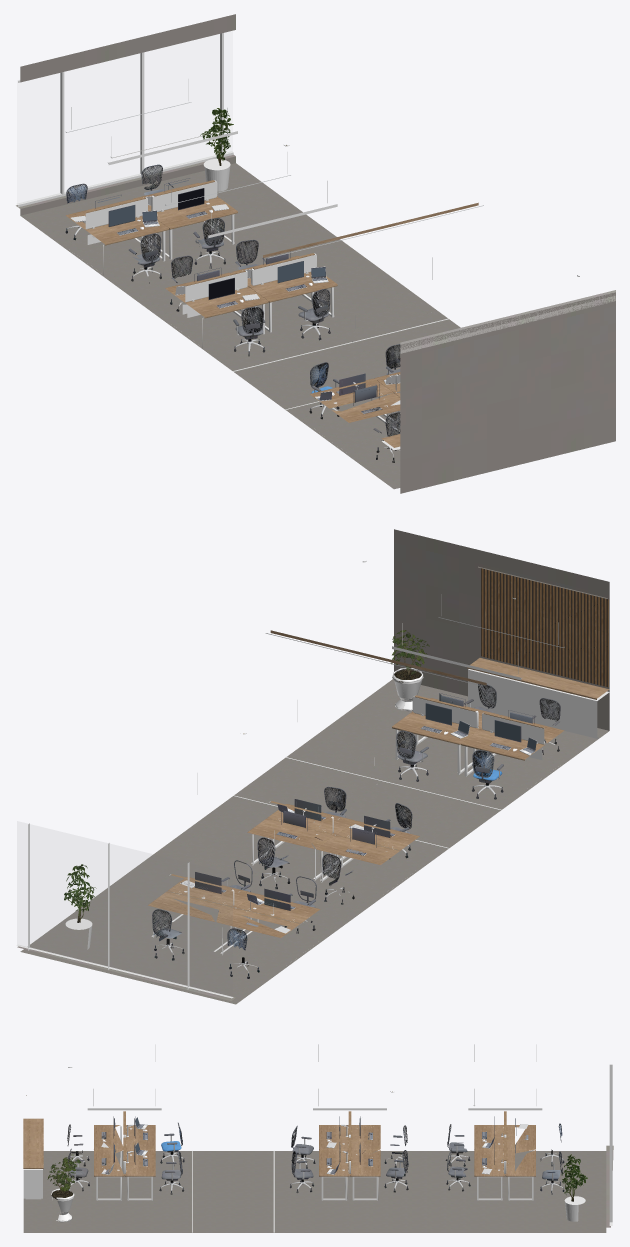
The model's file is z-open_c-lite.full.9e4667cb.glb.
The picture shows the model from 3 angles, top to bottom: view 1: azimuth 30°, elevation 25°; view 2: azimuth 150°, elevation 25°; view 3: azimuth 270°, elevation 25°; orthographic projection. The views are drawn at different scales.
Parts seen in each view (by area): view 1: open_c_carpet, open_c_plaster, open_c_satin, open_c_oak, open_c_fx, open_c_emit, open_c_metal_satin, open_c_veg_atlas; view 2: open_c_carpet, open_c_plaster, open_c_oak, open_c_satin, open_c_proxy_slat, open_c_fx, open_c_veg_atlas, open_c_emit, open_c_metal_satin; view 3: open_c_carpet, open_c_oak, open_c_satin, open_c_fx, open_c_metal_satin, open_c_veg_atlas, open_c_plaster.
Boxes of the visible parts, left/top/right/bottom form: open_c_carpet: left=20, top=163, right=460, bottom=489; open_c_plaster: left=16, top=14, right=615, bottom=493; open_c_satin: left=16, top=33, right=579, bottom=450; open_c_oak: left=66, top=180, right=478, bottom=447; open_c_fx: left=65, top=164, right=400, bottom=462; open_c_emit: left=66, top=102, right=483, bottom=342; open_c_metal_satin: left=67, top=145, right=400, bottom=456; open_c_veg_atlas: left=200, top=108, right=233, bottom=165; open_c_carpet: left=20, top=679, right=608, bottom=1004; open_c_plaster: left=17, top=529, right=609, bottom=1000; open_c_oak: left=148, top=630, right=609, bottom=937; open_c_satin: left=16, top=561, right=609, bottom=998; open_c_proxy_slat: left=481, top=568, right=608, bottom=687; open_c_fx: left=152, top=684, right=560, bottom=978; open_c_veg_atlas: left=64, top=630, right=429, bottom=922; open_c_emit: left=265, top=566, right=607, bottom=857; open_c_metal_satin: left=158, top=702, right=554, bottom=972; open_c_carpet: left=23, top=1151, right=606, bottom=1232; open_c_oak: left=23, top=1111, right=535, bottom=1176; open_c_satin: left=23, top=1044, right=612, bottom=1232; open_c_fx: left=65, top=1116, right=564, bottom=1194; open_c_metal_satin: left=66, top=1091, right=563, bottom=1190; open_c_veg_atlas: left=47, top=1154, right=587, bottom=1201; open_c_plaster: left=606, top=1145, right=613, bottom=1227.
Bounding box in the file's own units: 5 × 3.35 × 15.5.
10 materials, 6 textured.
